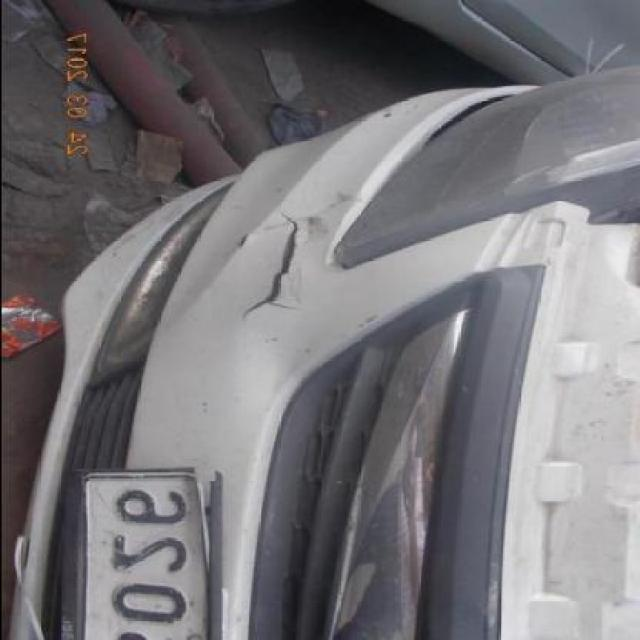damage: (233, 213, 307, 319), (261, 184, 371, 239)
